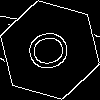O: (25, 25, 80, 74)
